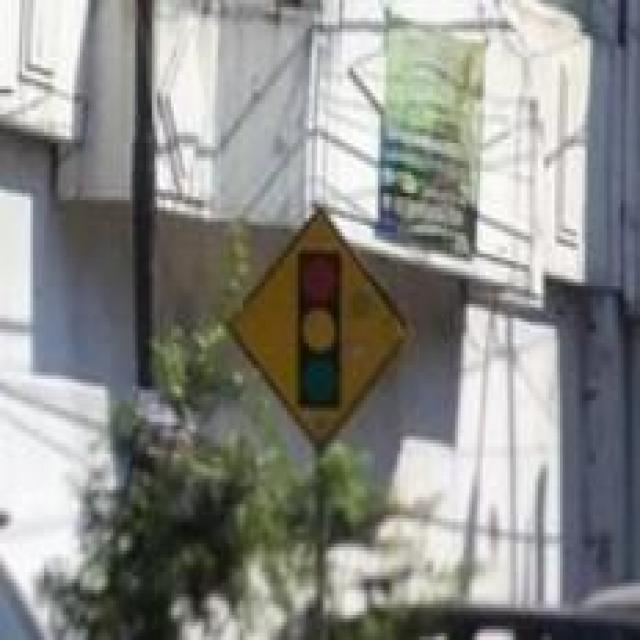traffic sign: (229, 211, 400, 444)
